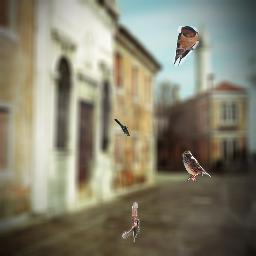Cuckoo: (114, 119, 131, 136)
Sparrow: (181, 150, 211, 182), (122, 202, 140, 242)
Swallow: (173, 26, 199, 66)
